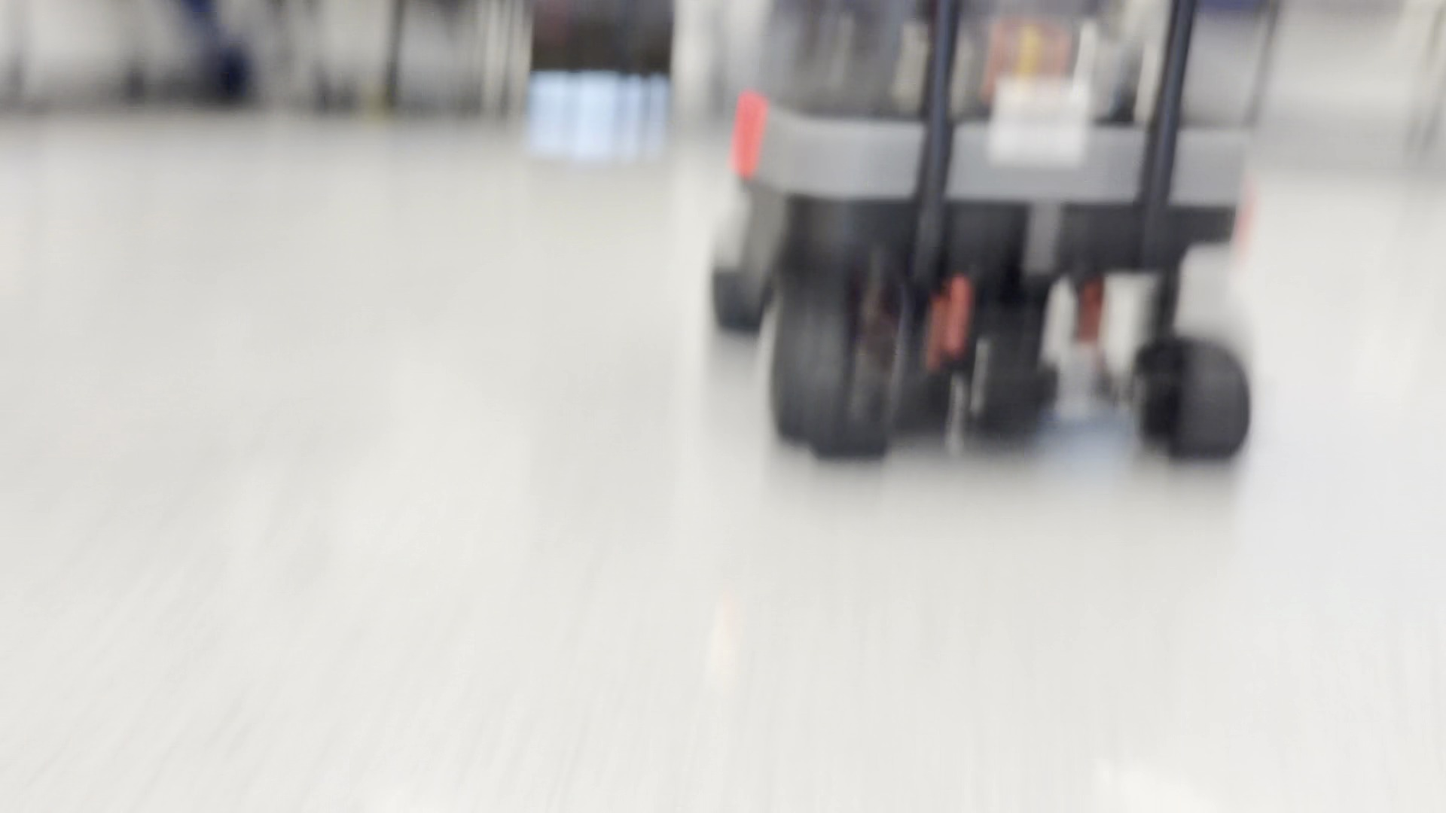racecar: (709, 0, 1258, 470)
